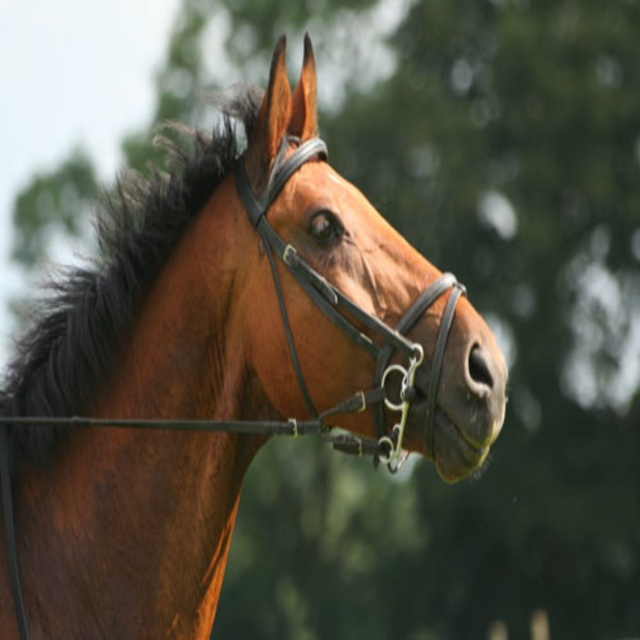Horse: (0, 29, 507, 638)
